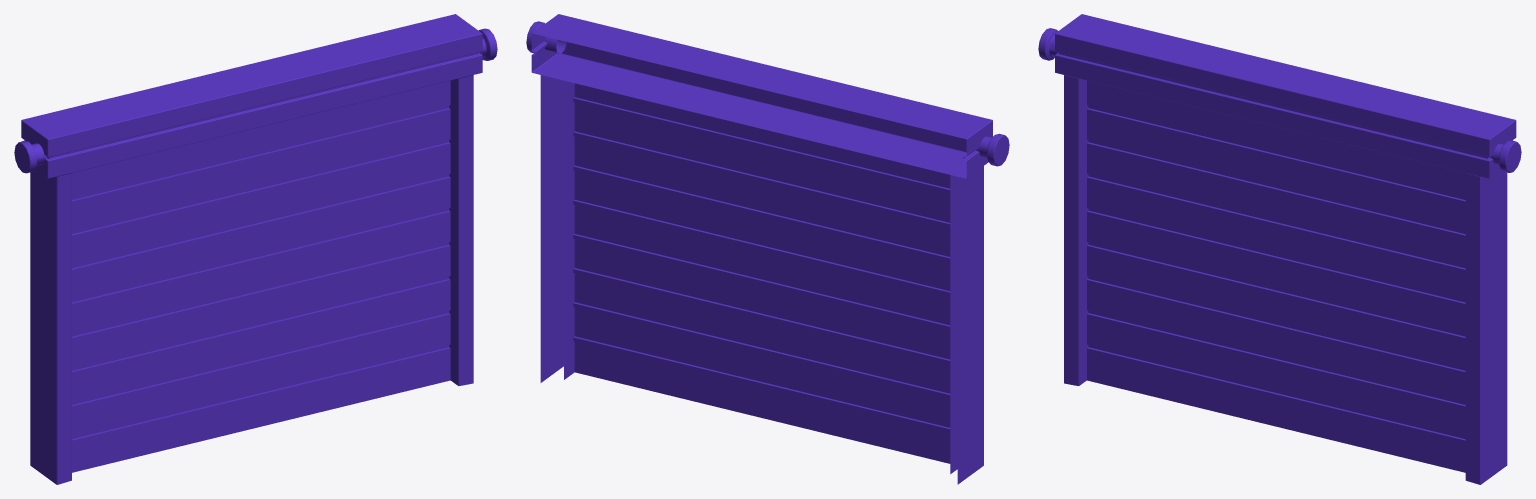
Rendered from GarageDoor.fbx.
3 views of the same model, side by side, from view 1: azimuth 30°, elevation 25°; view 2: azimuth 150°, elevation 25°; view 3: azimuth 330°, elevation 25° (orthographic).
Parts seen in each view (by area): view 1: SM_GarageDoor.001, SM_GarageDoorFrame.001, SM_GarageDoorFrame.002; view 2: SM_GarageDoor.001, SM_GarageDoorFrame.001, SM_GarageDoorFrame.002; view 3: SM_GarageDoor.001, SM_GarageDoorFrame.001, SM_GarageDoorFrame.003.
Part boxes in pixels (<box>): SM_GarageDoor.001: <box>72,80,450,472</box>; SM_GarageDoorFrame.001: <box>21,14,482,484</box>; SM_GarageDoorFrame.002: <box>14,141,47,173</box>; SM_GarageDoor.001: <box>573,83,950,463</box>; SM_GarageDoorFrame.001: <box>531,14,992,484</box>; SM_GarageDoorFrame.002: <box>976,133,1009,166</box>; SM_GarageDoor.001: <box>1087,80,1465,472</box>; SM_GarageDoorFrame.001: <box>1055,14,1516,484</box>; SM_GarageDoorFrame.003: <box>1490,140,1521,172</box>.
Size of the model in its own units: 505 by 359 by 50.
